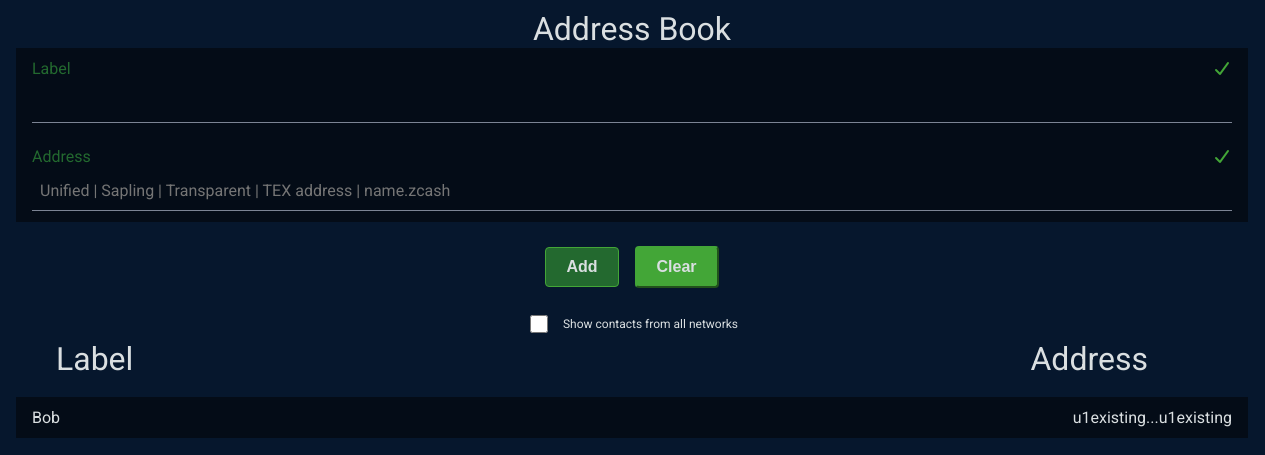
Test case: AddressBook › shows a Duplicate Address error
This screenshot has width=1265, height=455.
Type "u1existing" into the field labelled "Unified | Sapling | Transparent | TEX address | name.zcash".
click(632, 190); type("u1existing")  # box [32,170,1232,211]
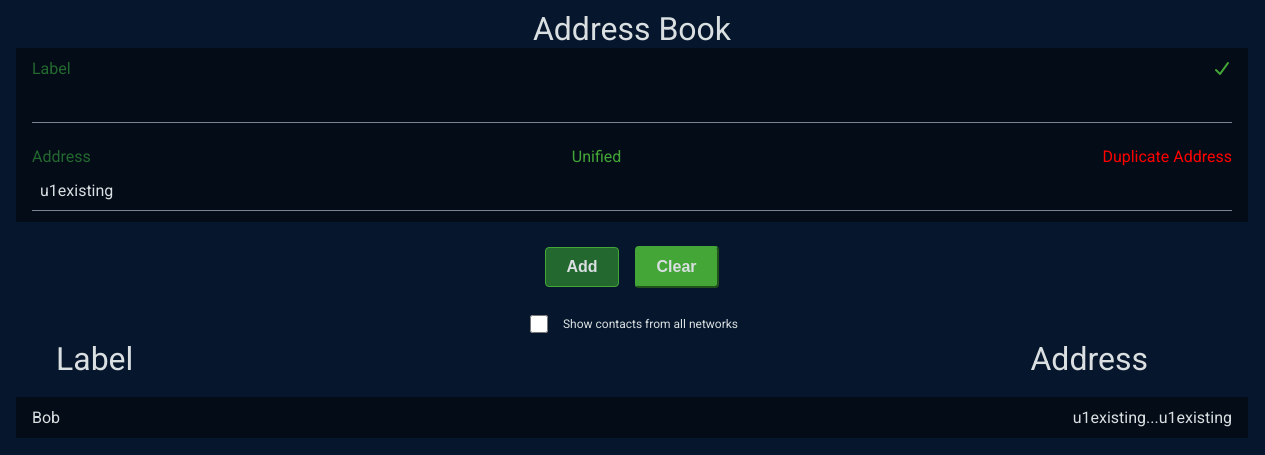
Result: the text "Duplicate Address" is shown at [1102,147,1232,166]
